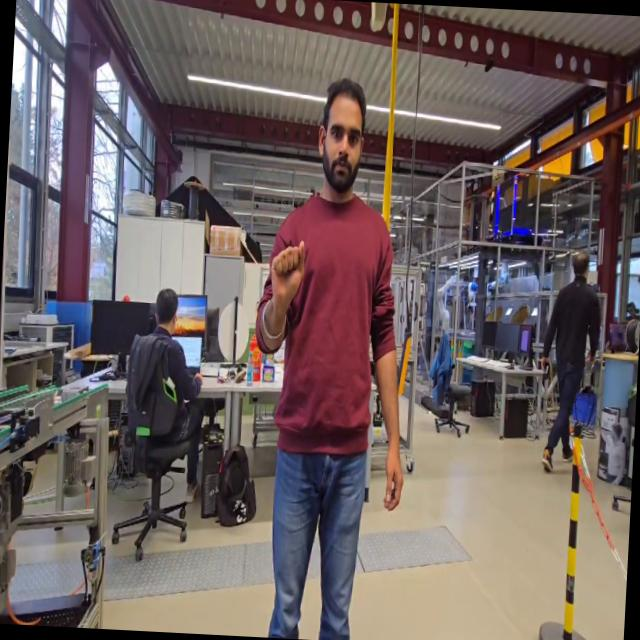closed_fist: (264, 234, 309, 308)
